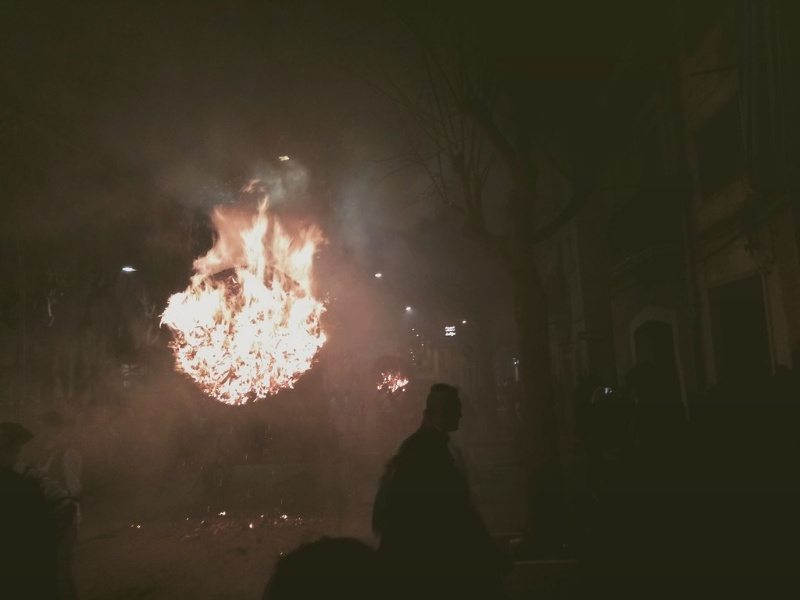smoke: (173, 134, 368, 214)
